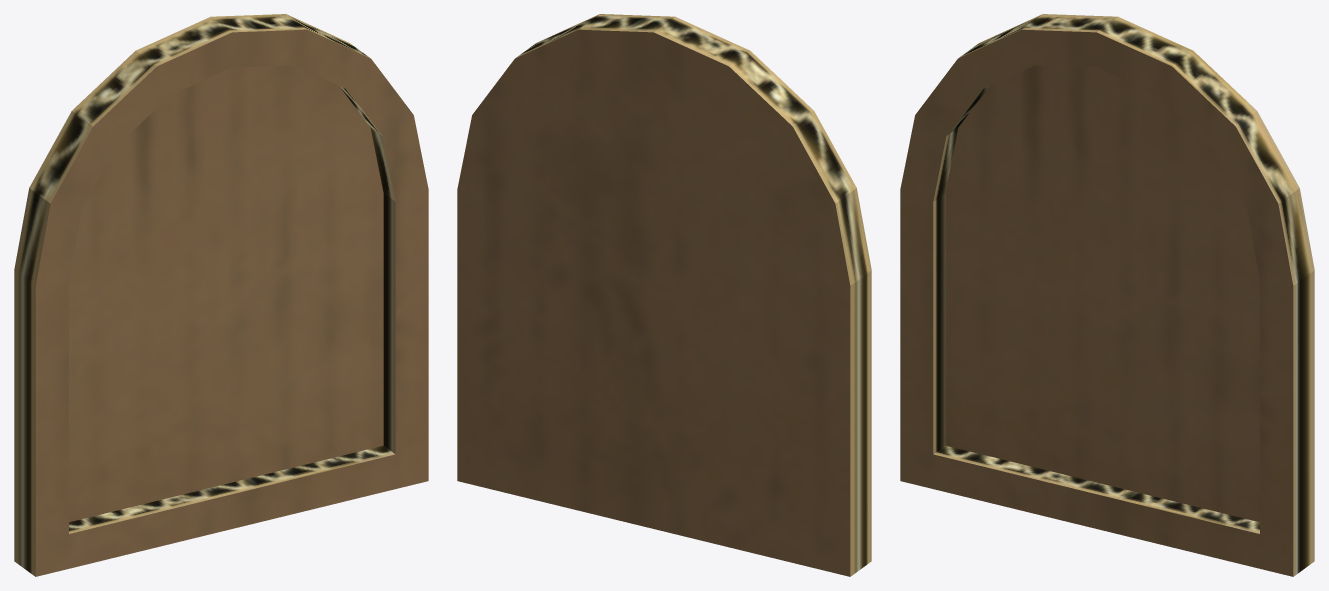
The model's file is cardboard_door.fbx.
The picture shows the model from 3 angles, left to right: view 1: azimuth 30°, elevation 25°; view 2: azimuth 150°, elevation 25°; view 3: azimuth 330°, elevation 25°; orthographic projection.
Visible parts, largest first — view 1: Cube; view 2: Cube; view 3: Cube.
Part boxes in pixels (bbox=[...]): Cube: bbox=[14, 14, 428, 576]; Cube: bbox=[457, 14, 871, 576]; Cube: bbox=[900, 14, 1314, 576].
Bounding box in the file's own units: 166 × 200 × 15.65.
1 material, 1 textured.
